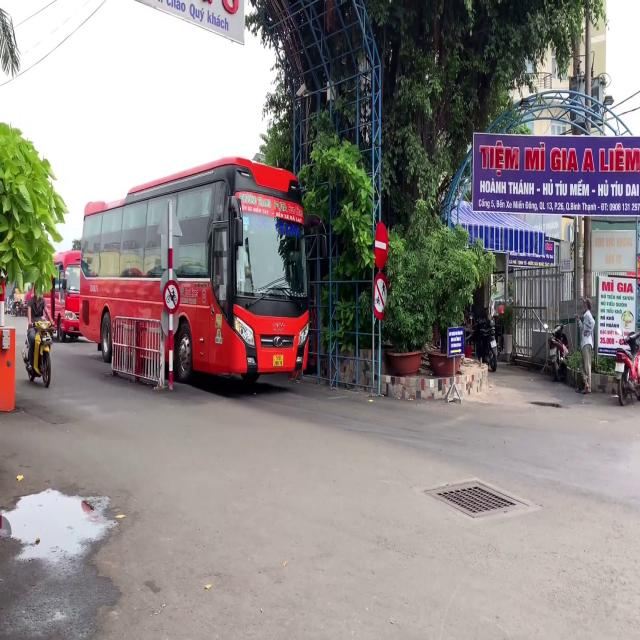bien_vang: (273, 355, 283, 367)
